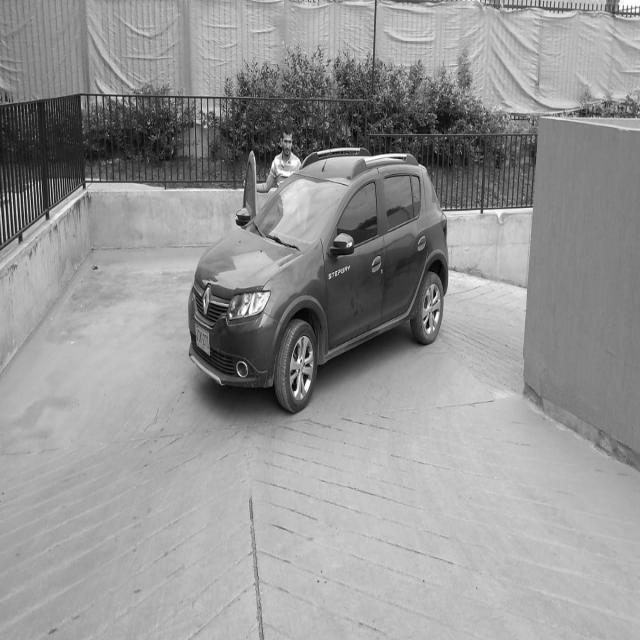plate: (194, 322, 211, 359)
